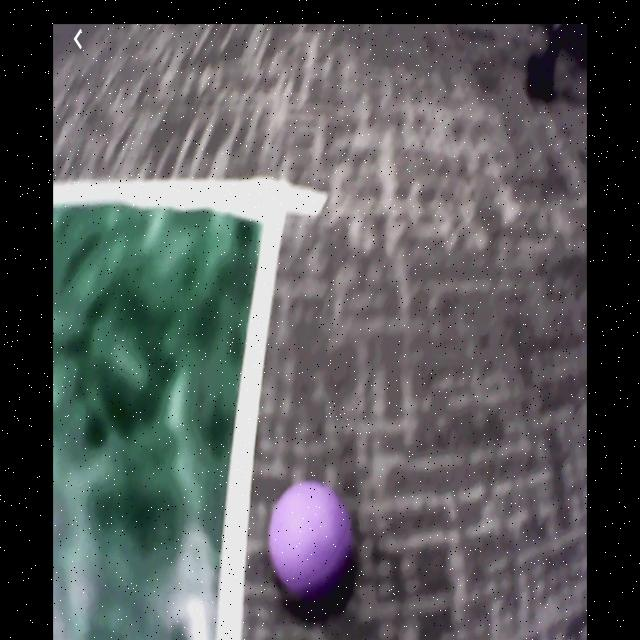ball: (268, 480, 356, 603)
